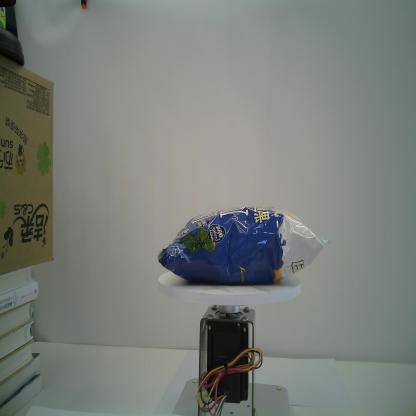Puffed Food: (158, 205, 332, 286)
